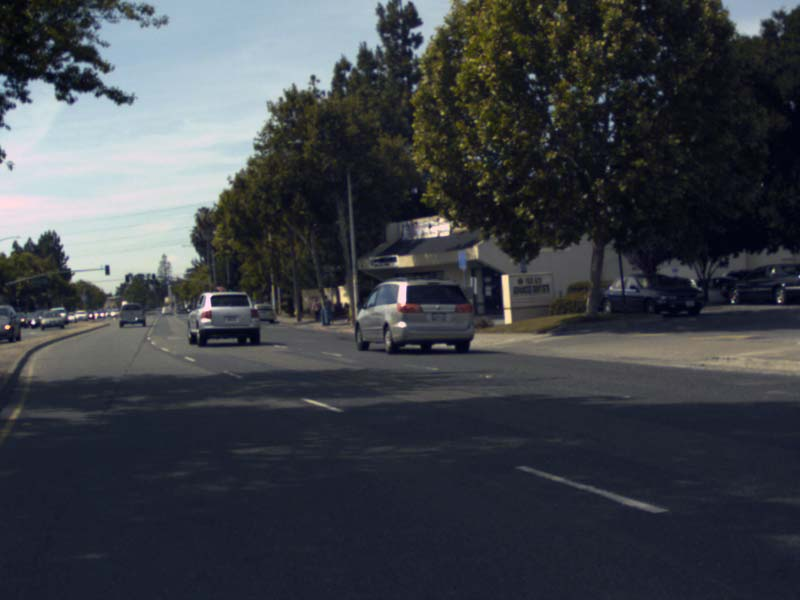Green: (228, 285, 231, 292), (152, 274, 154, 281)
